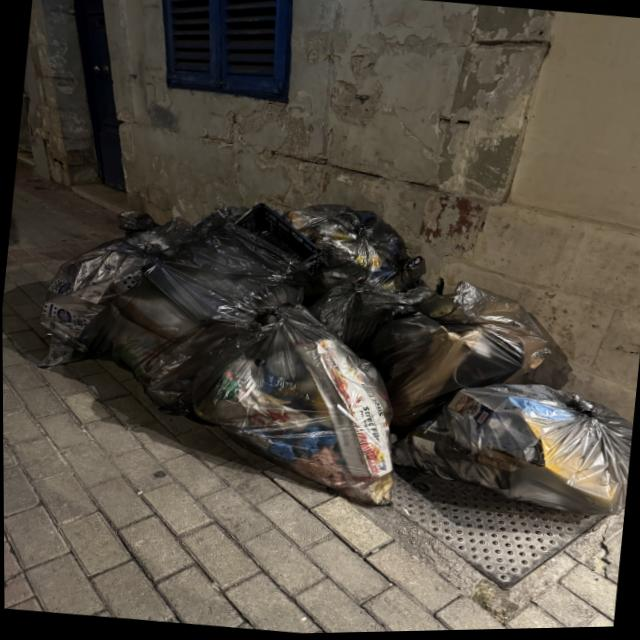Mixed Waste -Black Bags-: (41, 203, 632, 518)
